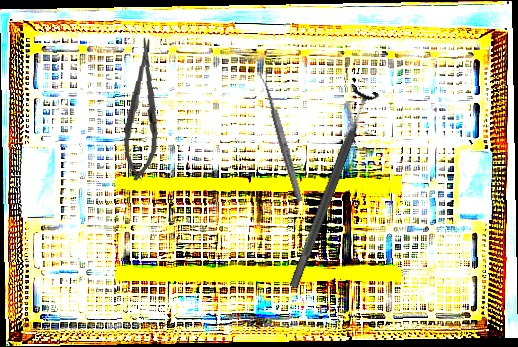Fixation Ring: (277, 83, 382, 293)
Needle Holder: (120, 36, 166, 183)
Surgical Spoon: (258, 70, 305, 203)
